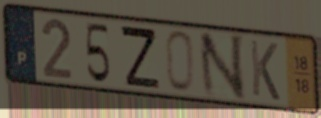0: (163, 27, 199, 95)
2: (40, 17, 74, 82)
5: (83, 20, 112, 84)
K: (248, 38, 282, 104)
N: (196, 31, 247, 102)
Z: (118, 23, 162, 92)
